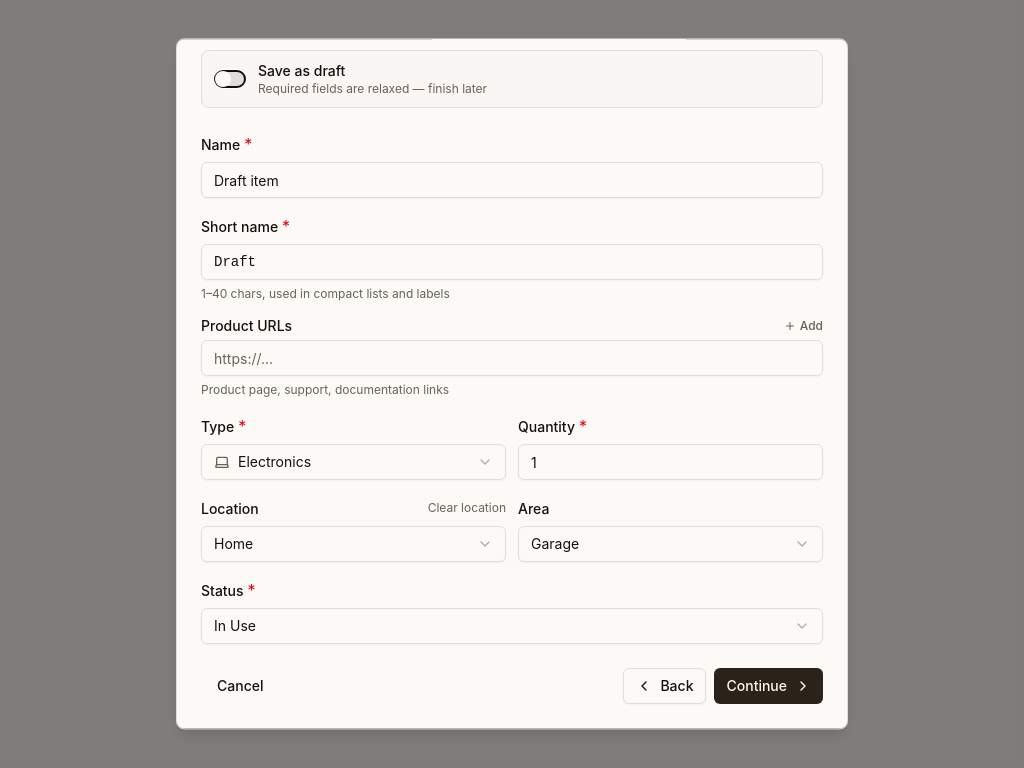
<CommodityFormDialog /> AI scan step › keeps Back active on Basics in edit mode (rewinds to AI scan)
(page scrolled)
Click the button "Back": (665, 686) [623, 668, 706, 704]
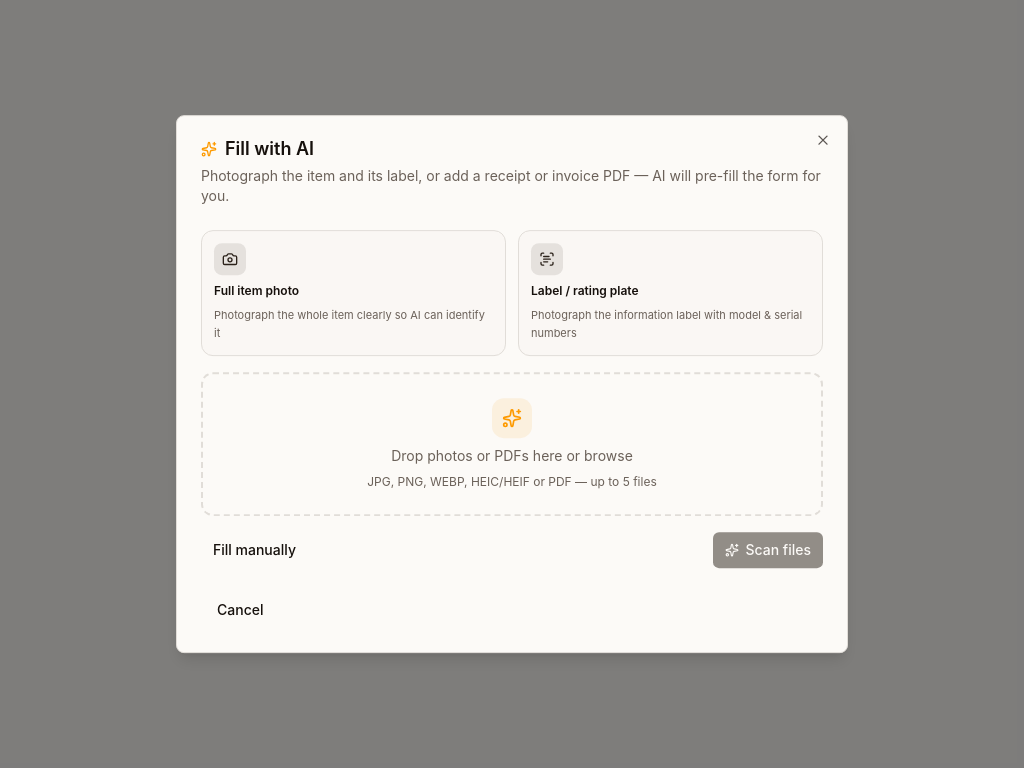
Result: the element with test id "commodity-form-ai-step" is shown at [201, 222, 823, 576]
